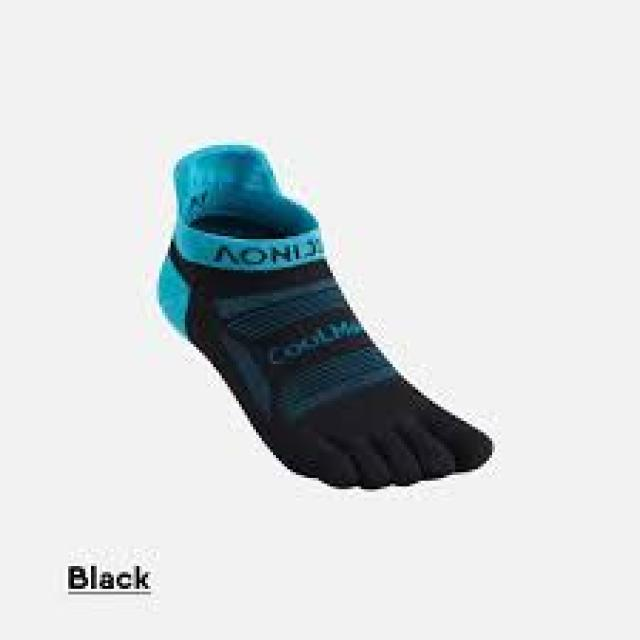sock: (154, 142, 492, 489)
